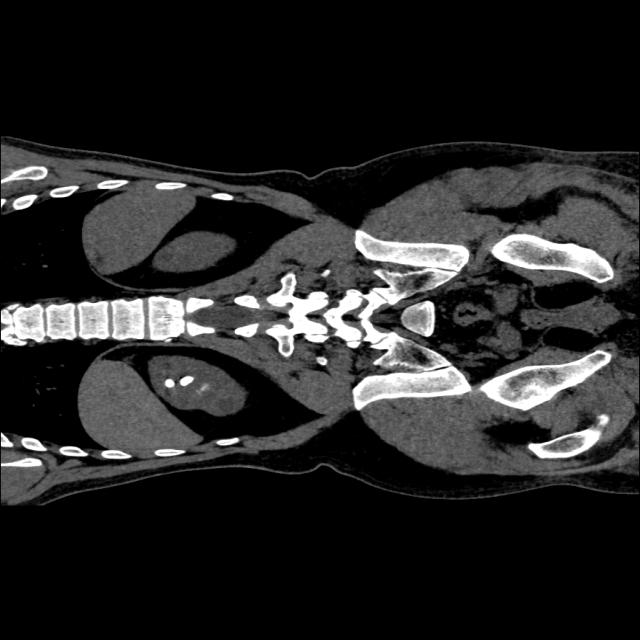kidneystone: (179, 375, 194, 384), (164, 378, 176, 388)
